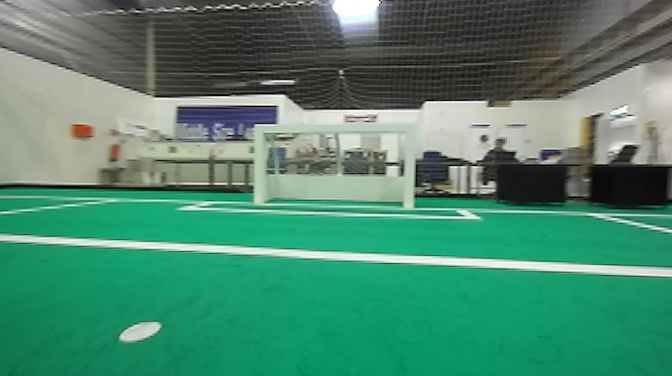goalpost: (393, 118, 427, 213), (247, 121, 268, 207)
